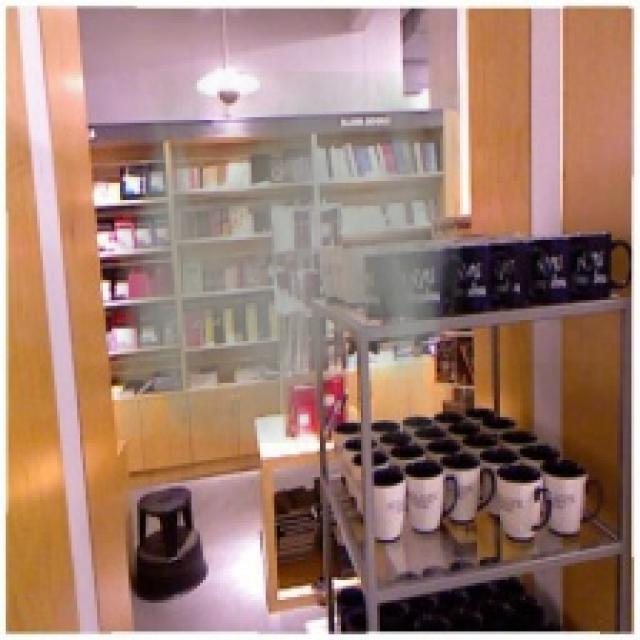Smoke: (117, 71, 463, 443)
